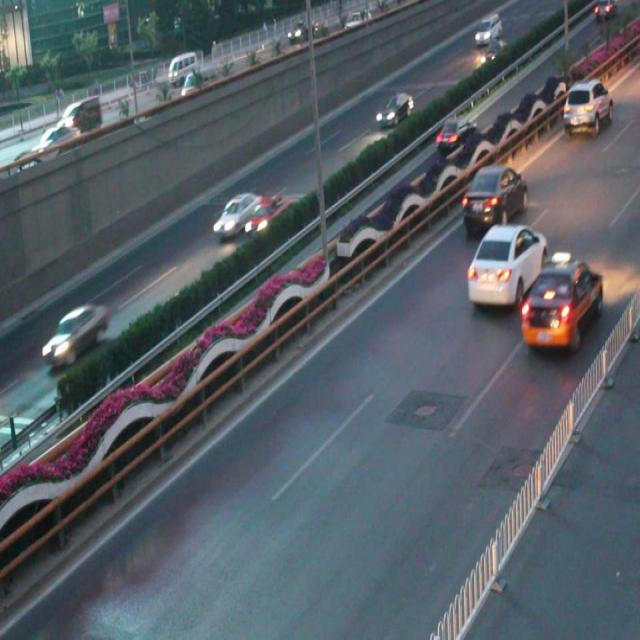car: (524, 255, 603, 349), (469, 224, 547, 306), (462, 162, 528, 230), (41, 298, 110, 362), (562, 82, 613, 134), (211, 192, 261, 235), (242, 194, 292, 236), (434, 115, 476, 149), (376, 91, 412, 127)
